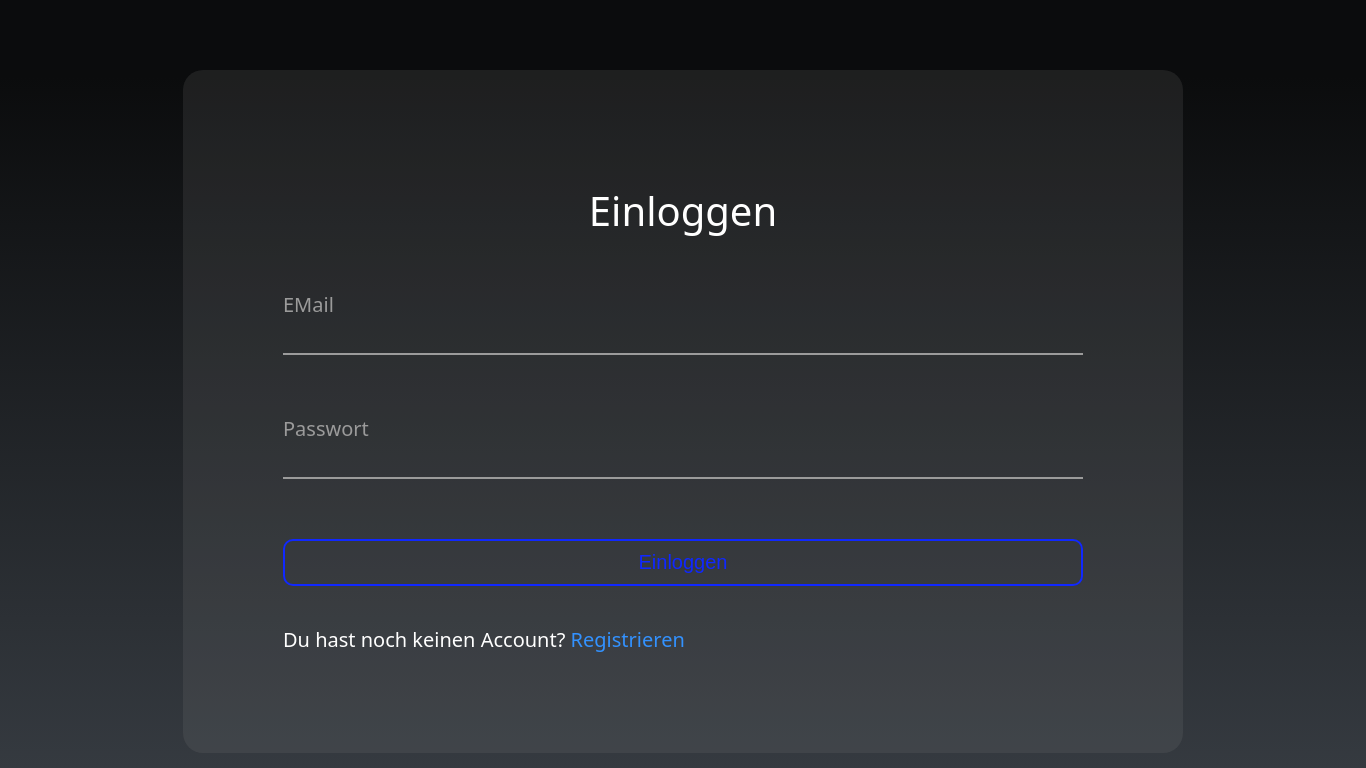
Scenario: Login Component › Fehlermeldung anzeigen, wenn das Passwort zu lang ist
The image size is (1366, 768).
Type "user@example.com" into the field labelled "EMail".
click(683, 337); type("user@example.com")  # box [283,318,1083,355]
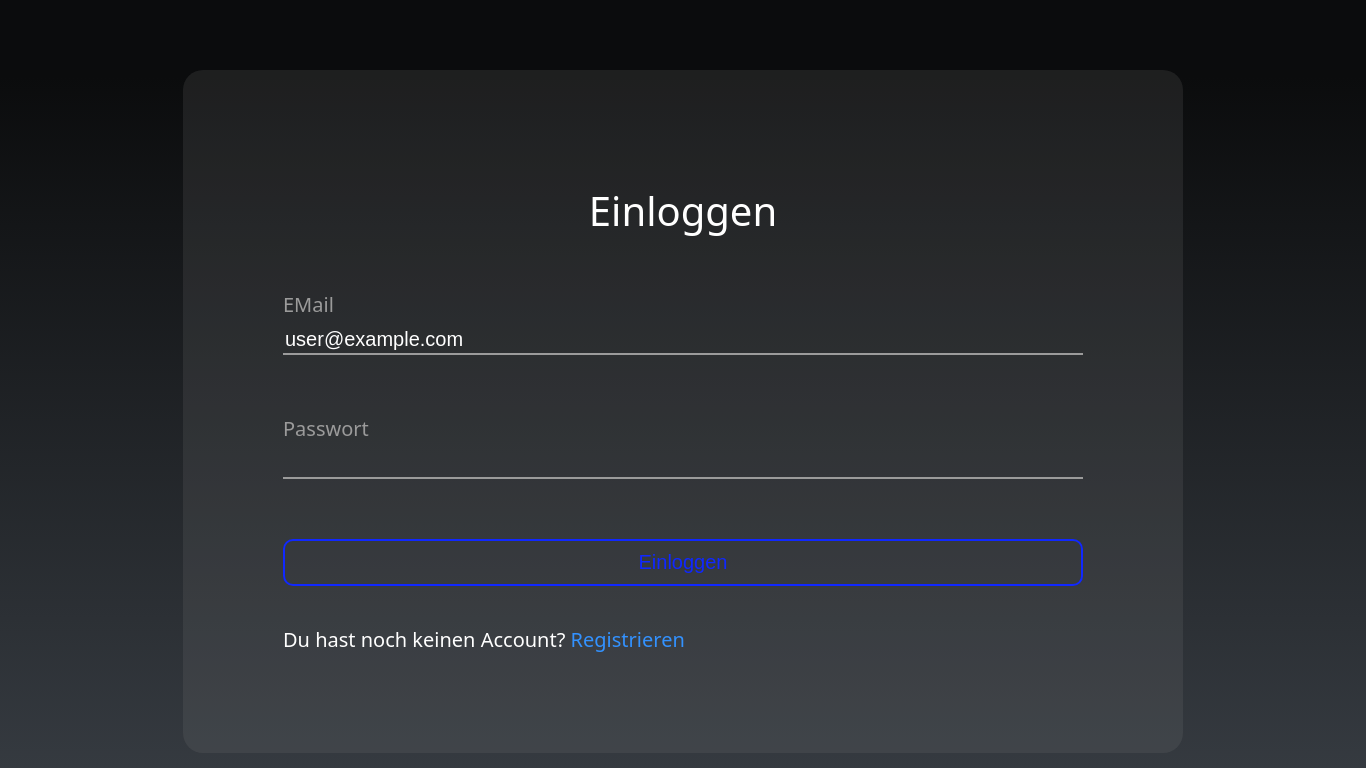
Type "passwordwaytolong" into the password field labelled "Passwort".
click(683, 461); type("passwordwaytolong")  # box [283,442,1083,479]
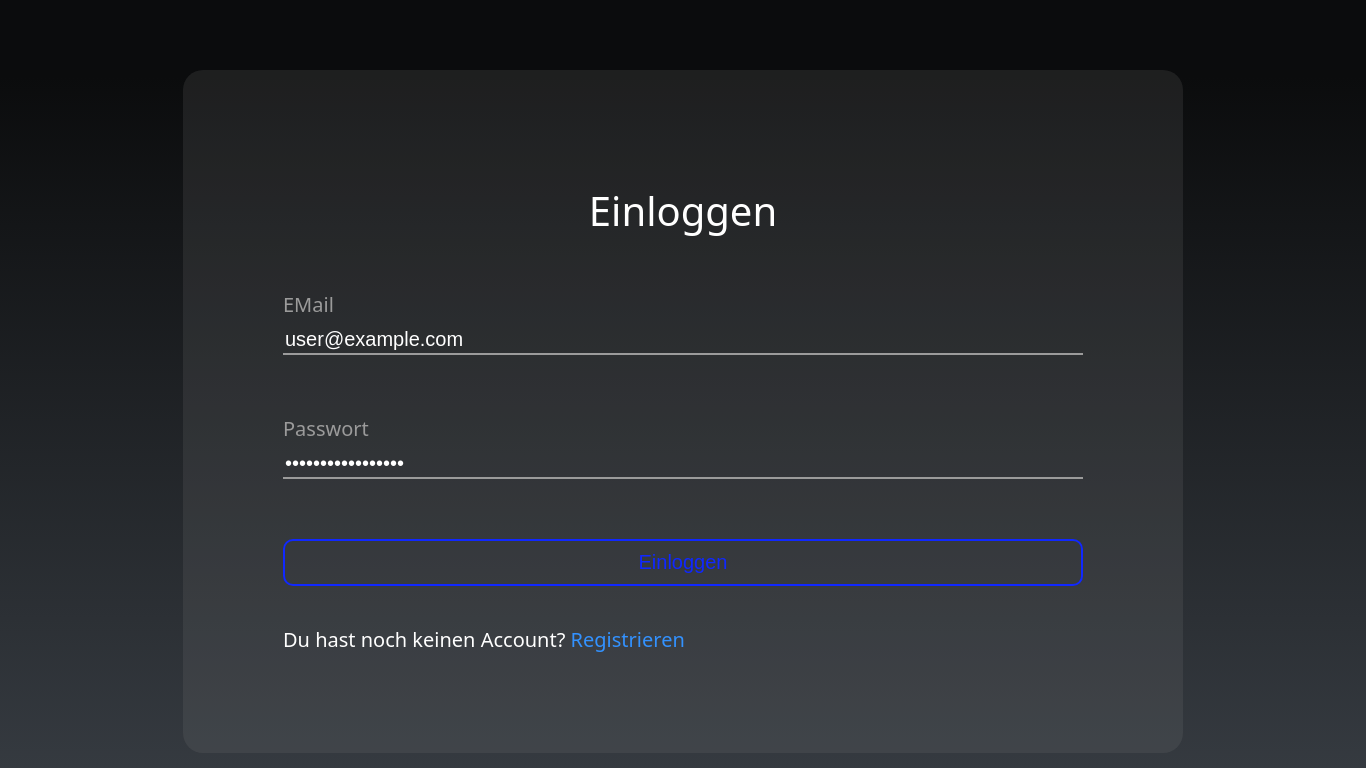
Click the button "Einloggen".
click(683, 563)  # box [283,539,1083,586]
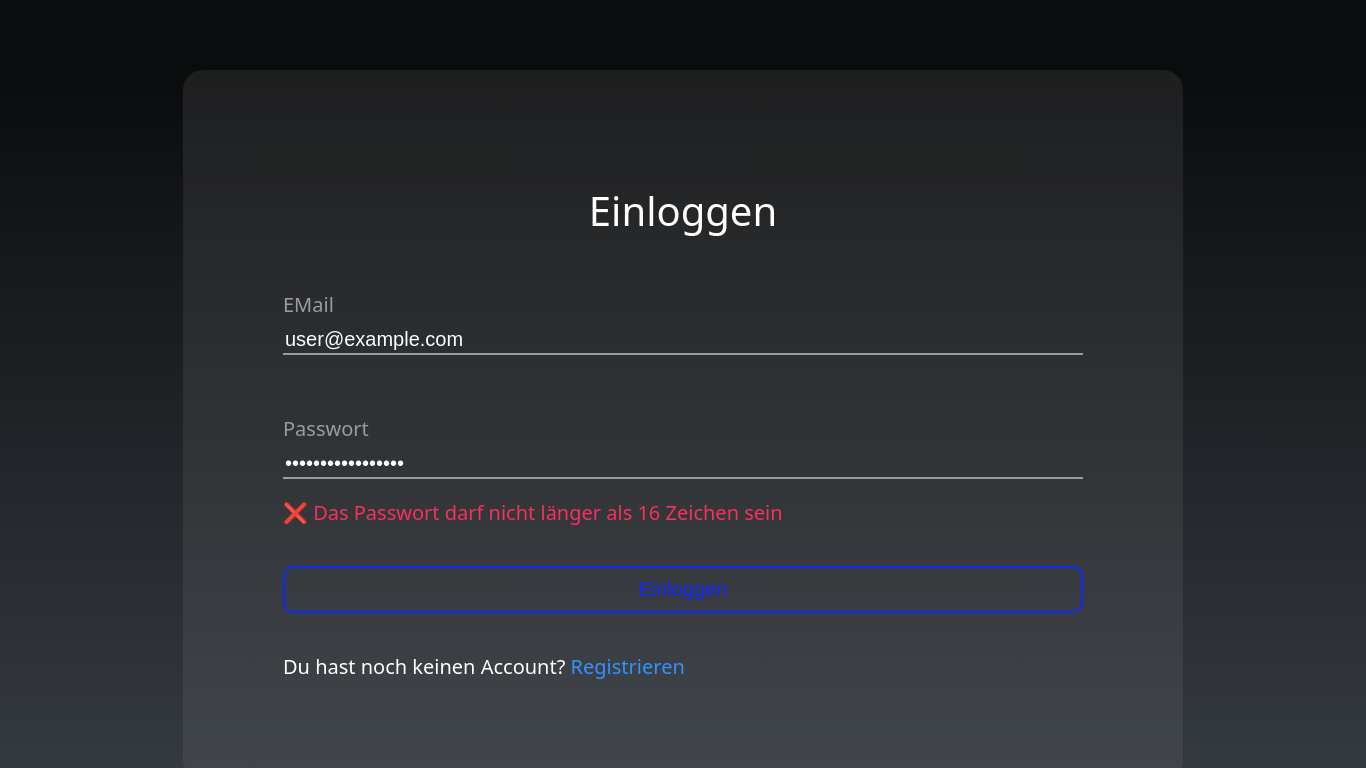
Now the text "❌ Das Passwort darf nicht länger als 16 Zeichen sein" is shown, box [283,499,783,526]
